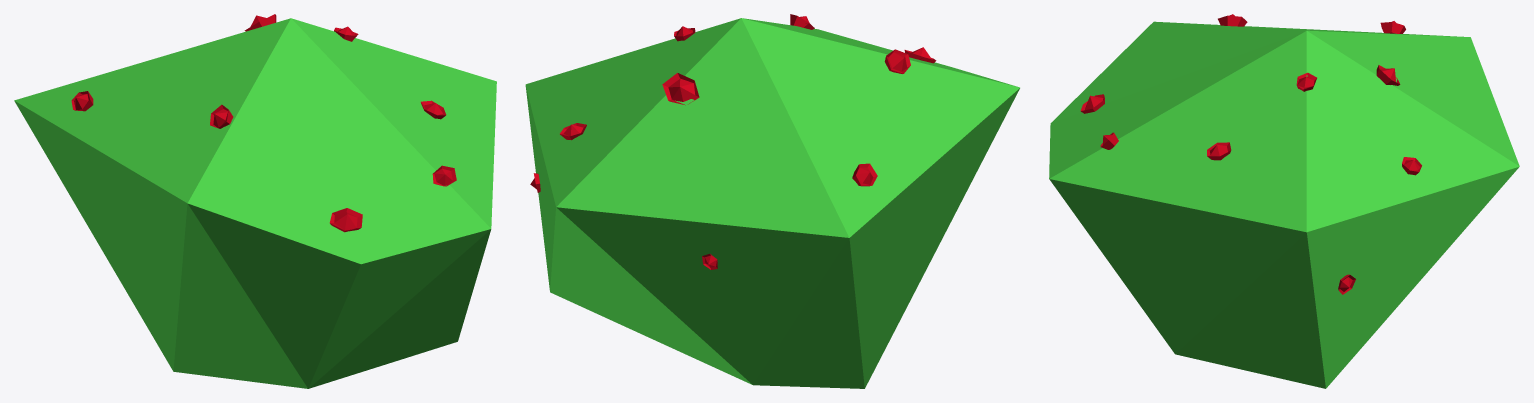
The model's file is bushFlowers 1.fbx.
3 views of the same model, side by side, from view 1: azimuth 30°, elevation 25°; view 2: azimuth 150°, elevation 25°; view 3: azimuth 270°, elevation 25° (orthographic). The views are drawn at different scales.
Visible parts, largest first — view 1: Bush_body, Rose.005; view 2: Bush_body, Rose.001, Rose.003, Rose.002; view 3: Bush_body.
Part boxes in pixels (x1=…): Bush_body: x1=14, y1=18, x2=496, y2=388; Rose.005: x1=329, y1=208, x2=362, y2=232; Bush_body: x1=525, y1=18, x2=1019, y2=388; Rose.001: x1=662, y1=73, x2=699, y2=105; Rose.003: x1=884, y1=49, x2=910, y2=73; Rose.002: x1=852, y1=163, x2=877, y2=186; Bush_body: x1=1049, y1=21, x2=1519, y2=388.
Bounding box in the file's own units: 206 × 162 × 226.
